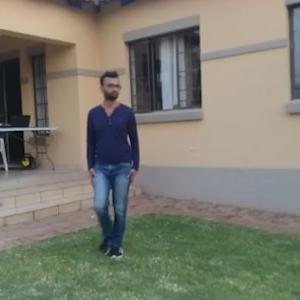follow: (83, 65, 143, 266)
